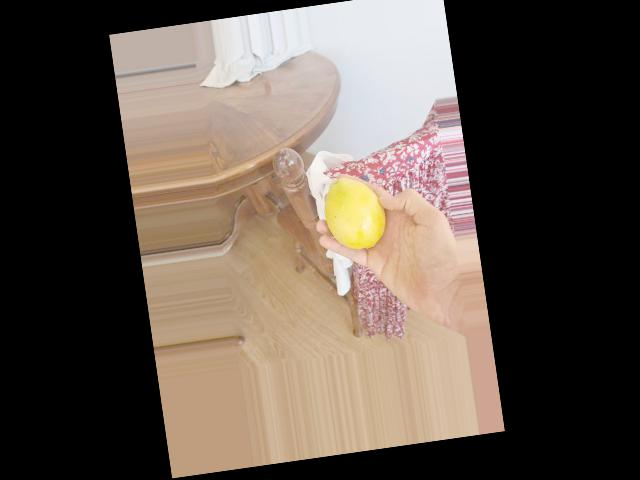lemon: (320, 171, 387, 254)
